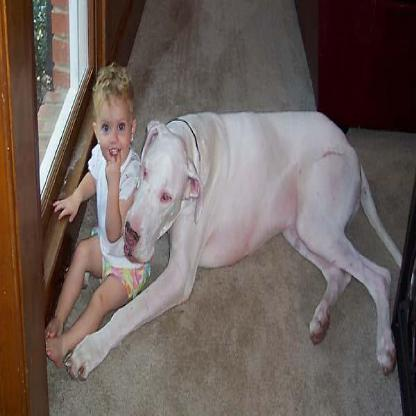Great_Dane: (62, 110, 403, 385)
